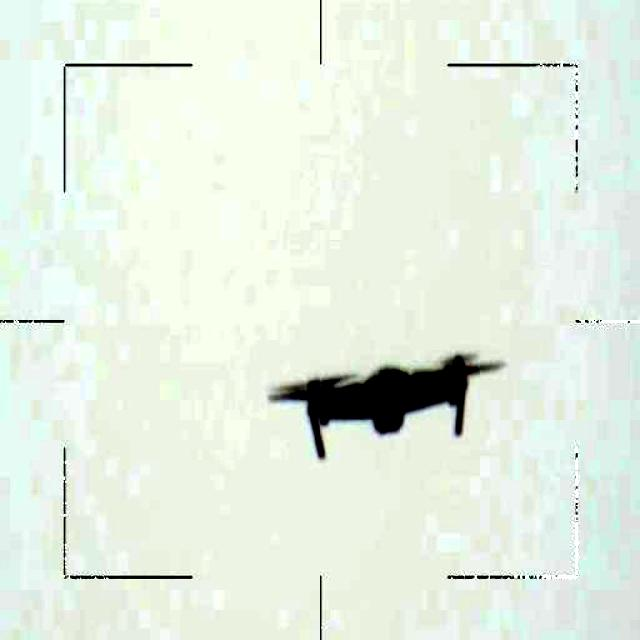bird: (265, 354, 509, 469)
